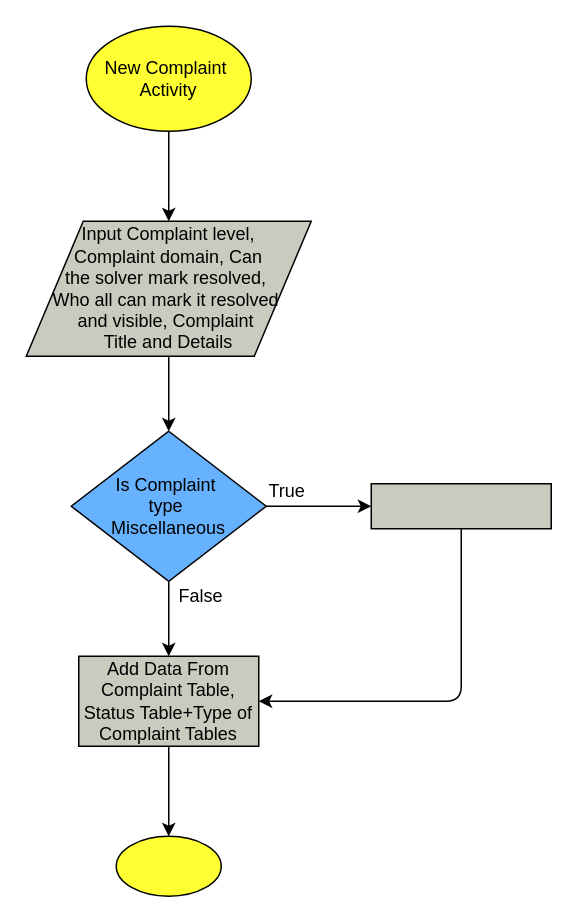
Some shapes in this 578 by 923 pixel diagram are drawn without their labels. The box of each missing label's shape, as (x1, y1, x2, y2) in pixels:
Complaint to whom: (370, 482, 551, 529)
Stop: (115, 835, 221, 896)
